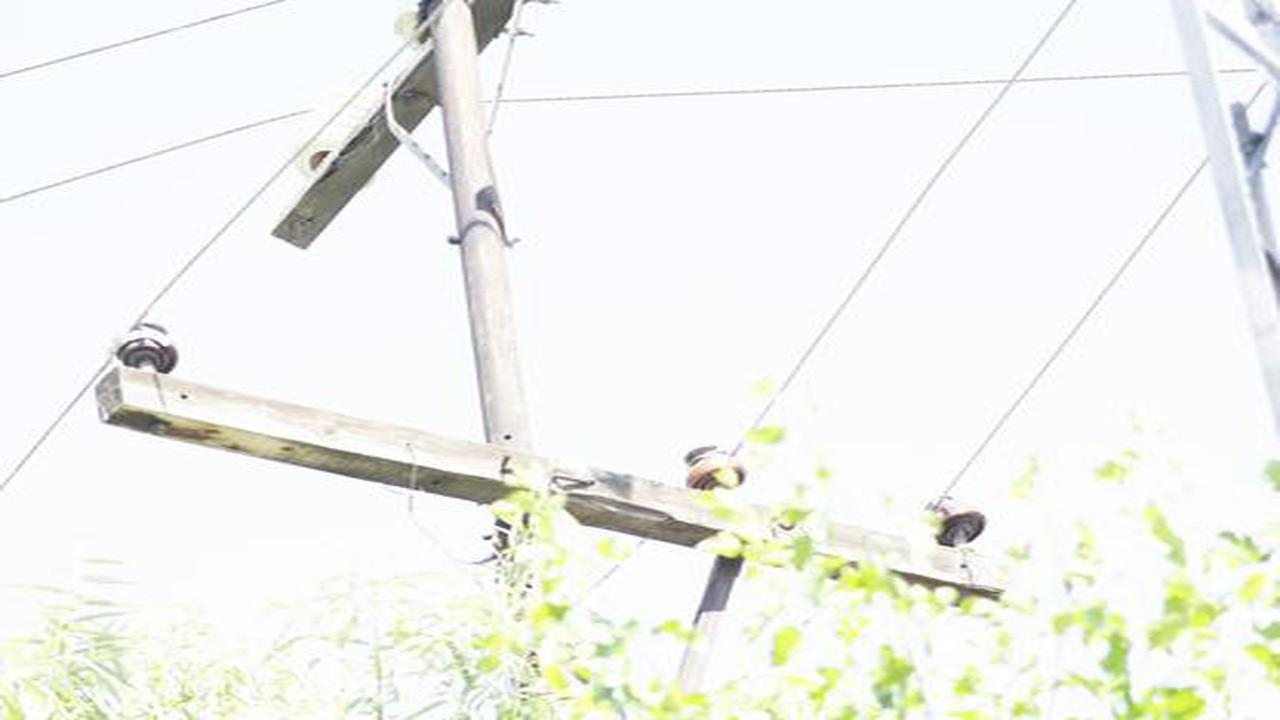defect_pin: (111, 318, 184, 377)
insulator_pin: (678, 437, 751, 493), (922, 491, 989, 546)
